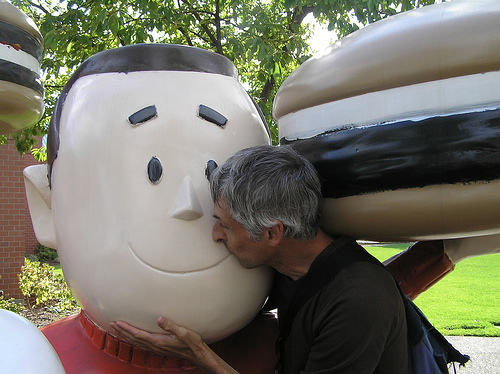without_mask: (206, 186, 298, 275)
